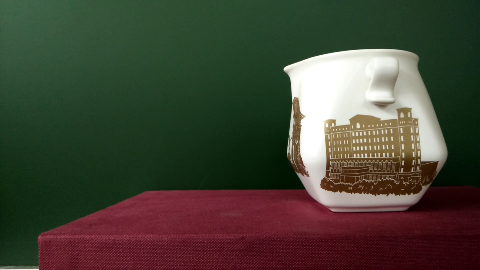gate: (293, 99, 305, 172)
law: (329, 128, 428, 191)
